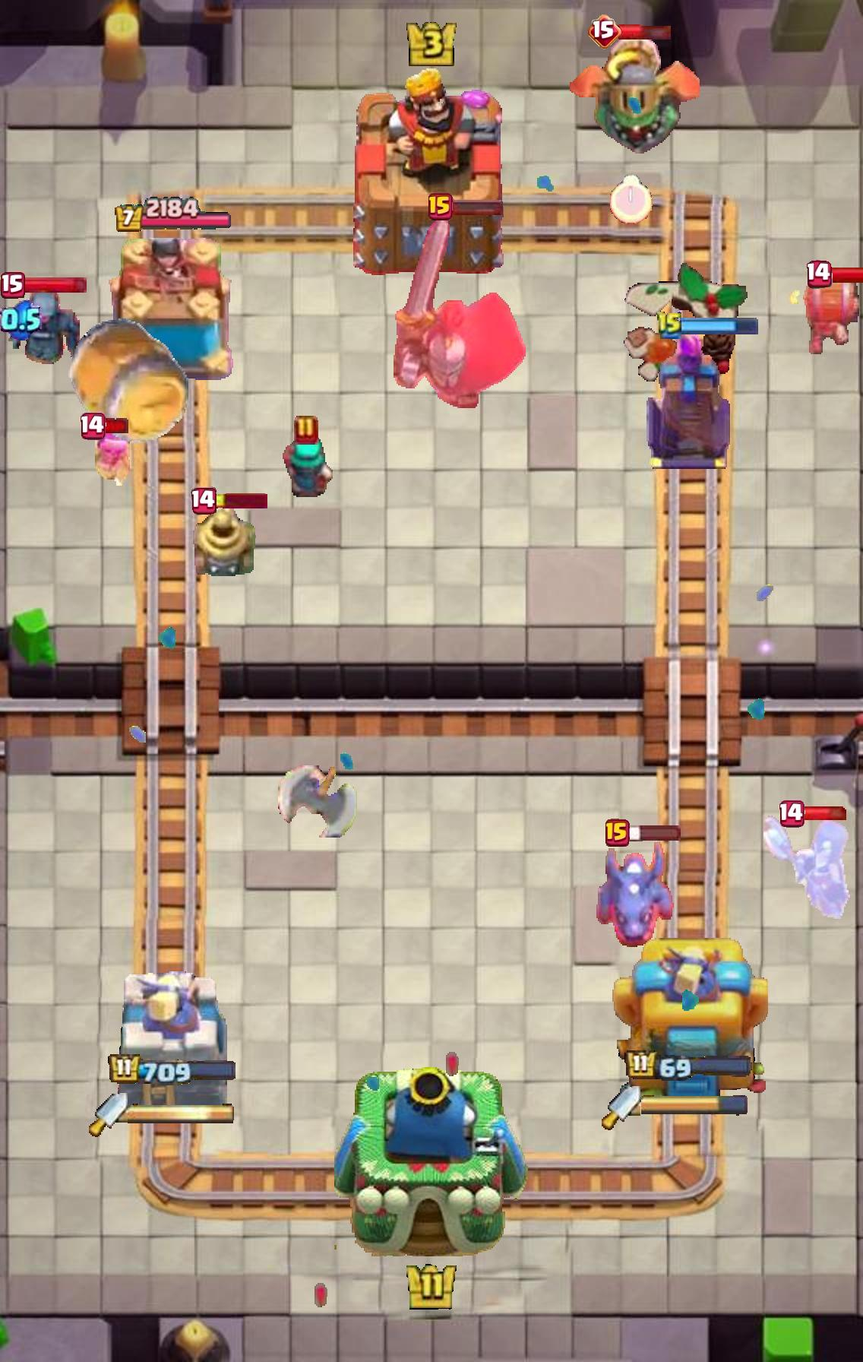elixir: (0, 298, 42, 340)
